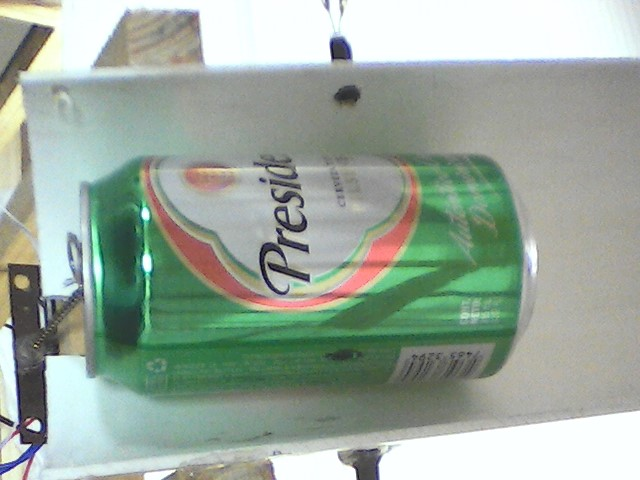lata: (75, 149, 543, 407)
